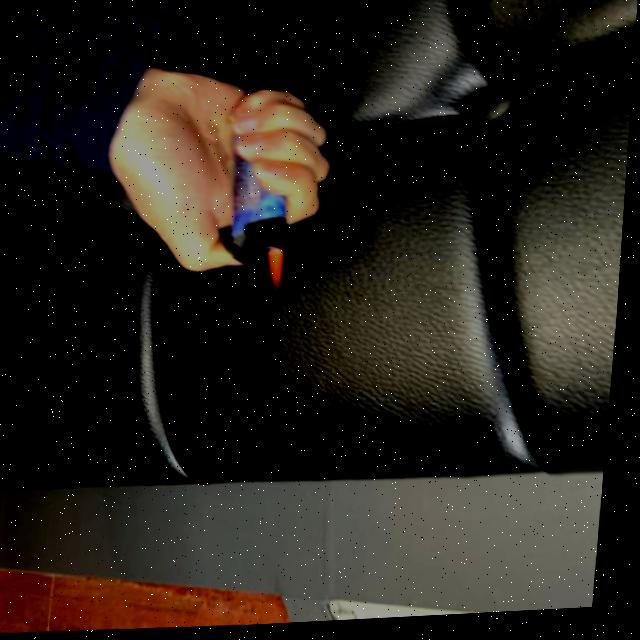Fire: (264, 250, 291, 295)
